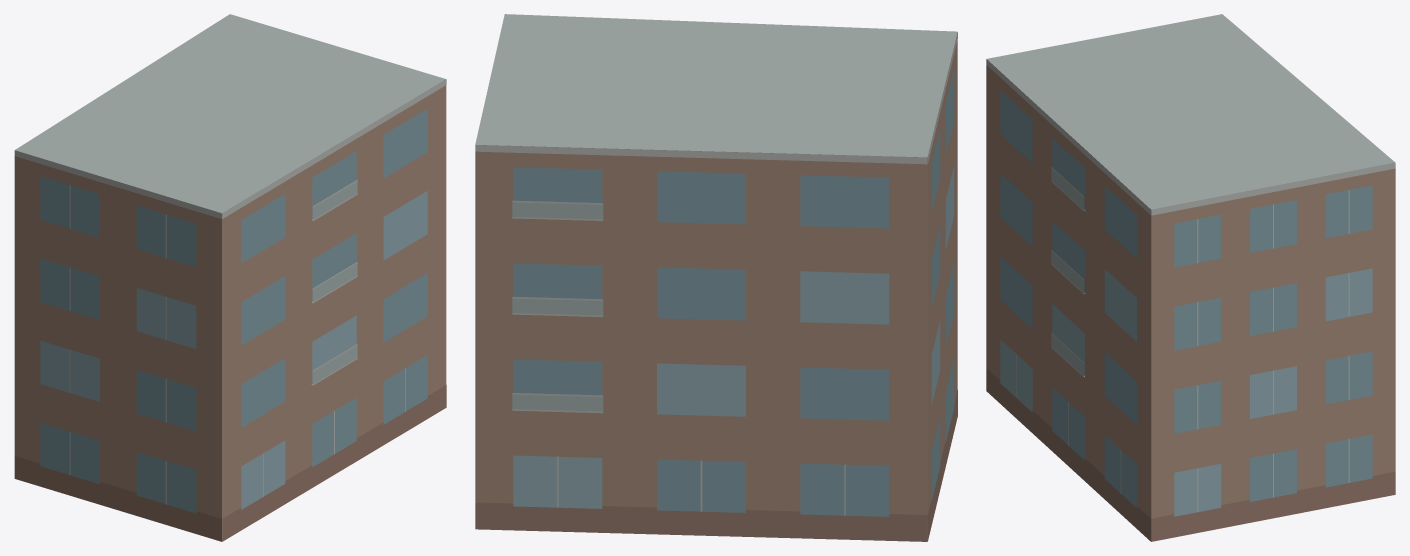
File: survey-upis-32740655.glb
3 renders of one model, left to right at view 1: azimuth 30°, elevation 25°; view 2: azimuth 150°, elevation 25°; view 3: azimuth 270°, elevation 25°, orthographic. The views are drawn at different scales.
Parts seen in each view (by area): view 1: survey-upis-32740655.tmp; view 2: survey-upis-32740655.tmp; view 3: survey-upis-32740655.tmp.
Boxes of the visible parts, x1,y1,x2,y2 form: survey-upis-32740655.tmp: (14,14,446,541); survey-upis-32740655.tmp: (475,14,957,541); survey-upis-32740655.tmp: (986,14,1395,541).
Bounding box in the file's own units: 17.17 × 13.58 × 15.17.
